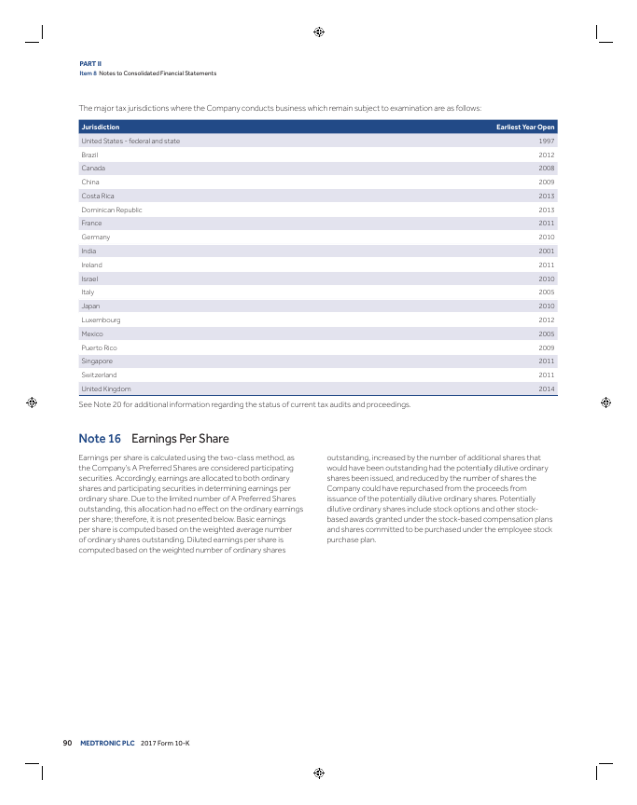table: (76, 117, 559, 400)
